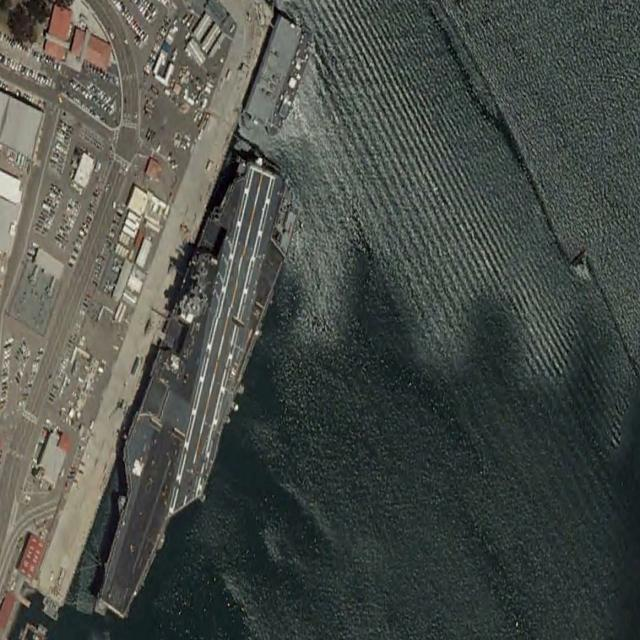Aircraft Carrier: (74, 136, 310, 639)
